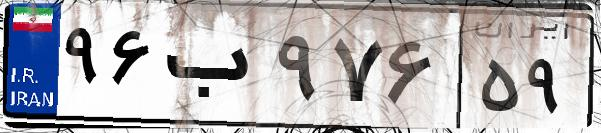5: (475, 38, 525, 113)
6: (385, 28, 445, 110), (110, 28, 158, 98)
7: (330, 28, 385, 110)
9: (270, 28, 330, 110), (57, 26, 110, 100), (525, 38, 570, 115)
ب: (158, 20, 270, 120)
